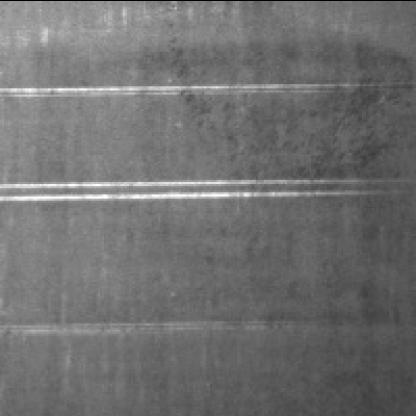scratches: (4, 177, 397, 208), (5, 81, 384, 104), (9, 320, 300, 341)
